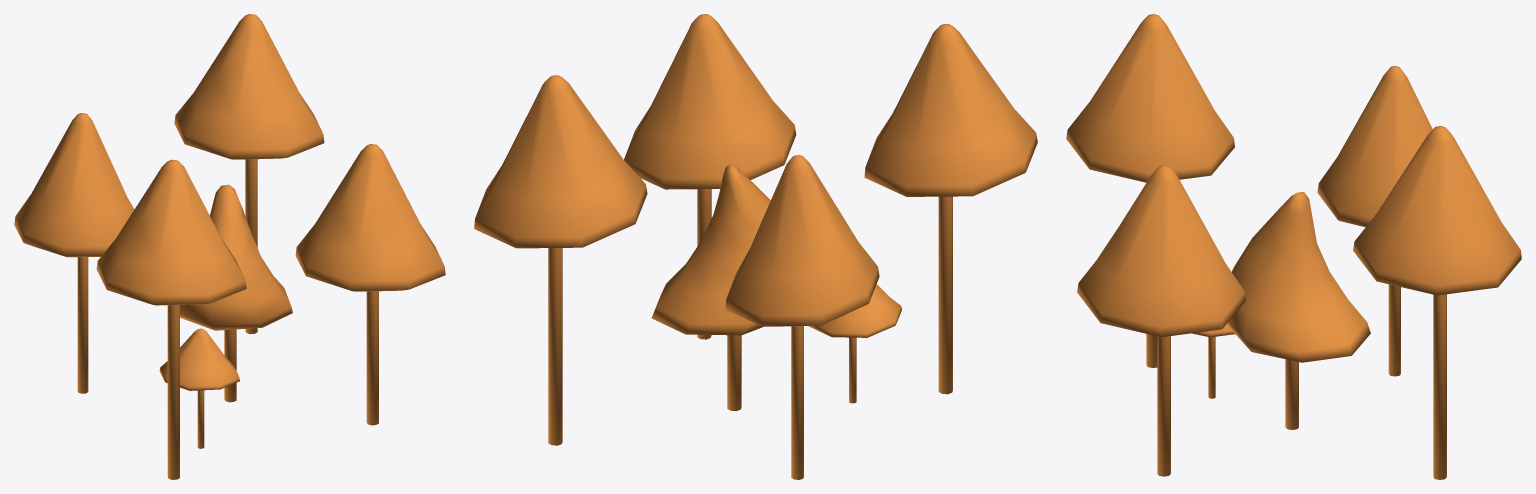
The model's file is MushroomYellow.fbx.
3 views of the same model, side by side, from view 1: azimuth 30°, elevation 25°; view 2: azimuth 150°, elevation 25°; view 3: azimuth 270°, elevation 25° (orthographic). The views are drawn at different scales.
Visible parts, largest first — view 1: Mushrooms; view 2: Mushrooms; view 3: Mushrooms.
Boxes of the visible parts, x1=… form: Mushrooms: x1=14, y1=14, x2=445, y2=479; Mushrooms: x1=474, y1=14, x2=1037, y2=479; Mushrooms: x1=1066, y1=14, x2=1521, y2=479.
Bounding box in the file's own units: 3.5 × 2.99 × 3.3.
